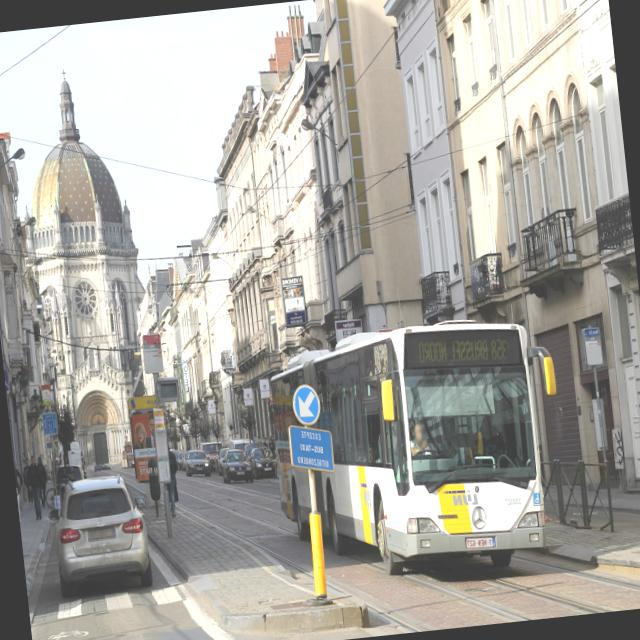bus-number: (489, 337, 509, 362)
